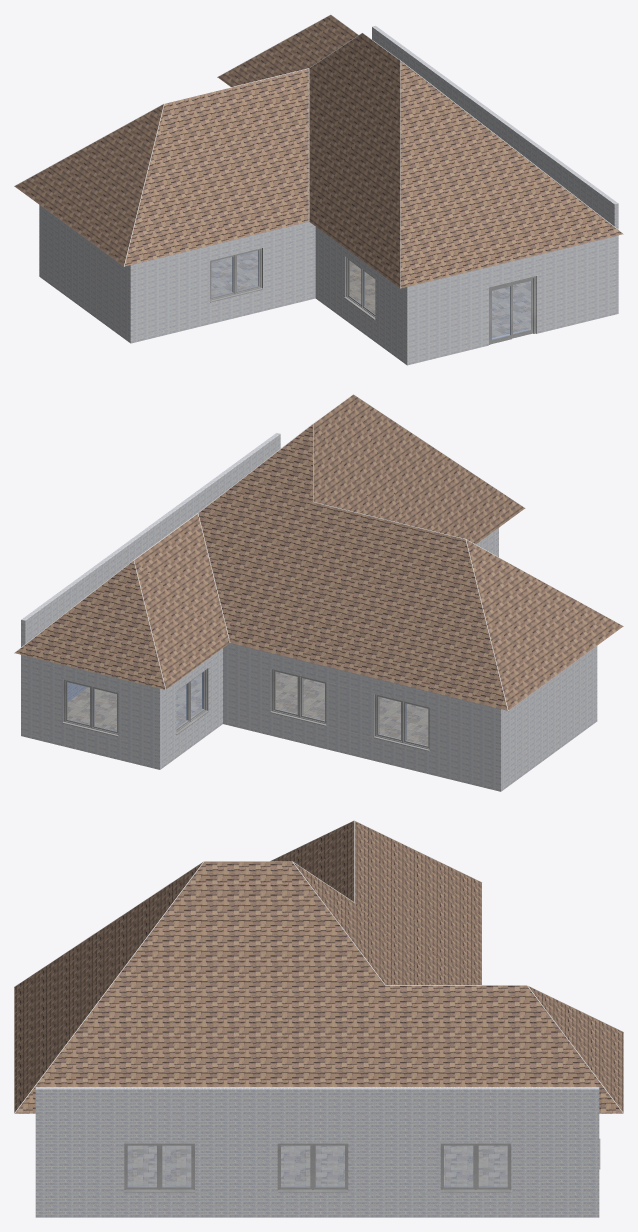
Rendered from telhado45N.glb.
3 renders of one model, top to bottom at view 1: azimuth 30°, elevation 25°; view 2: azimuth 150°, elevation 25°; view 3: azimuth 270°, elevation 25°, orthographic. The views are drawn at different scales.
Parts seen in each view (by area): view 1: object 2, object 30, object 32, root, object 31; view 2: object 2, object 30, object 32, root, object 31; view 3: object 2, object 30, root, object 32, object 31.
Boxes of the visible parts, bbox=[...] form: object 2: bbox=[15, 15, 622, 288]; object 30: bbox=[39, 25, 618, 365]; object 32: bbox=[211, 251, 531, 339]; root: bbox=[211, 250, 531, 337]; object 31: bbox=[210, 248, 536, 344]; object 2: bbox=[15, 395, 622, 710]; object 30: bbox=[21, 433, 597, 791]; object 32: bbox=[67, 672, 427, 745]; root: bbox=[67, 672, 428, 744]; object 31: bbox=[62, 668, 429, 751]; object 2: bbox=[14, 821, 623, 1113]; object 30: bbox=[35, 1087, 599, 1217]; root: bbox=[127, 1145, 507, 1186]; object 32: bbox=[128, 1146, 507, 1186]; object 31: bbox=[124, 1138, 600, 1192].
Size of the model in its own units: 15.64 by 8.53 by 17.22.
Materials: 10 (4 with a texture image).
